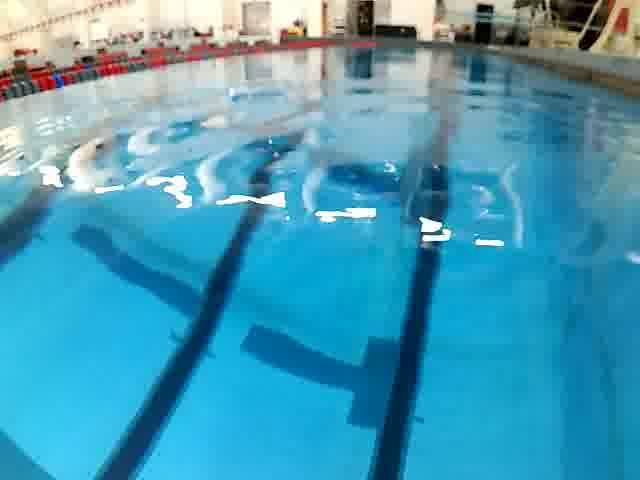Bottle: (214, 72, 304, 108)
